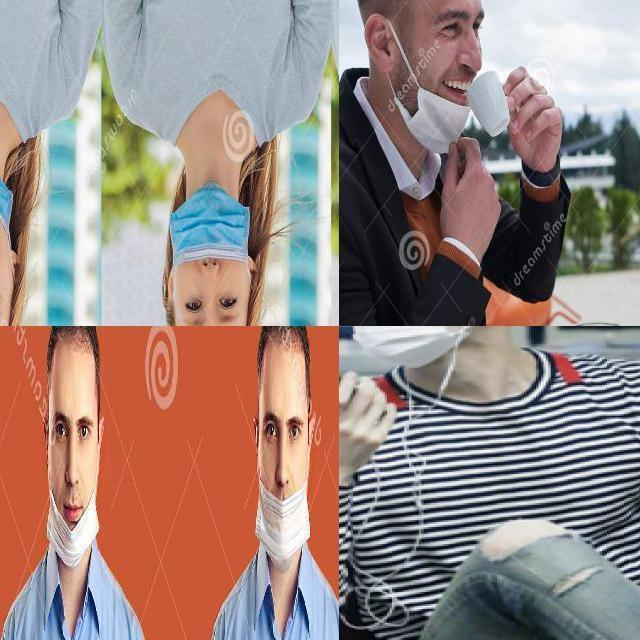hairnet: (381, 36, 482, 161), (169, 183, 252, 282), (256, 438, 315, 566), (45, 441, 103, 569)
